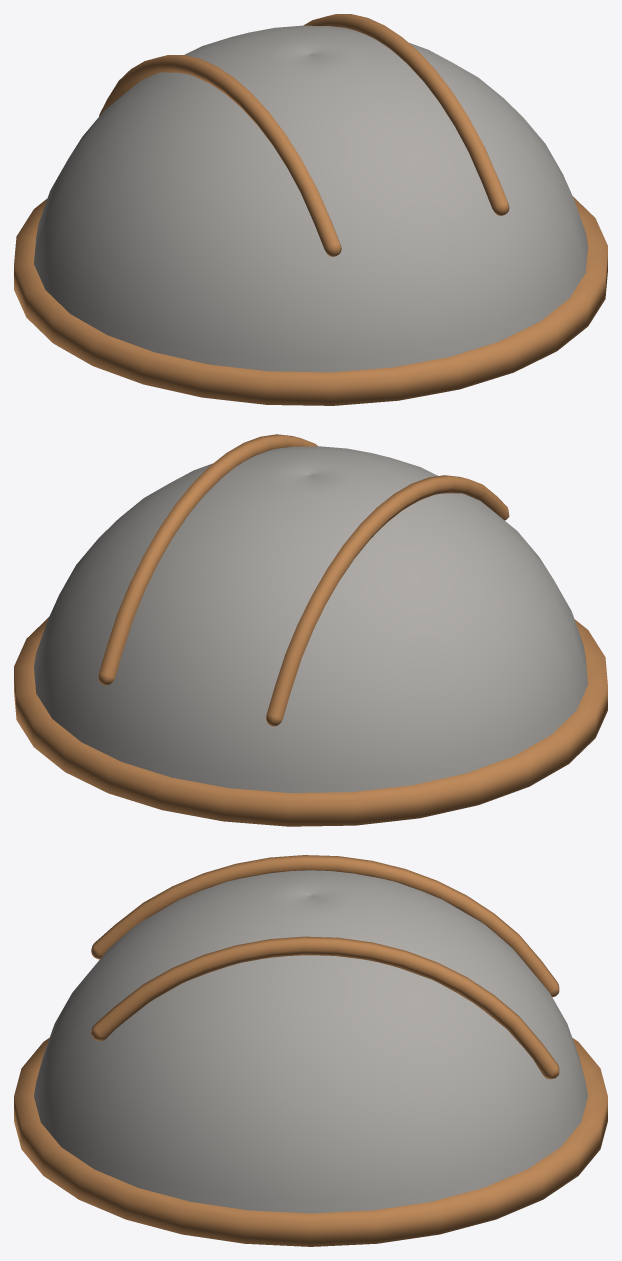
Rendered from combat_helmet.glb.
The picture shows the model from 3 angles, top to bottom: view 1: azimuth 30°, elevation 25°; view 2: azimuth 150°, elevation 25°; view 3: azimuth 270°, elevation 25°; orthographic projection.
Parts seen in each view (by area): view 1: combat_helmet_Head; view 2: combat_helmet_Head; view 3: combat_helmet_Head.
Part boxes in pixels (x1,y1,x2,y2): combat_helmet_Head: (14,14,607,405); combat_helmet_Head: (14,434,607,826); combat_helmet_Head: (14,855,607,1246).
Bounding box in the file's own units: 0.75 × 0.315 × 0.75.
